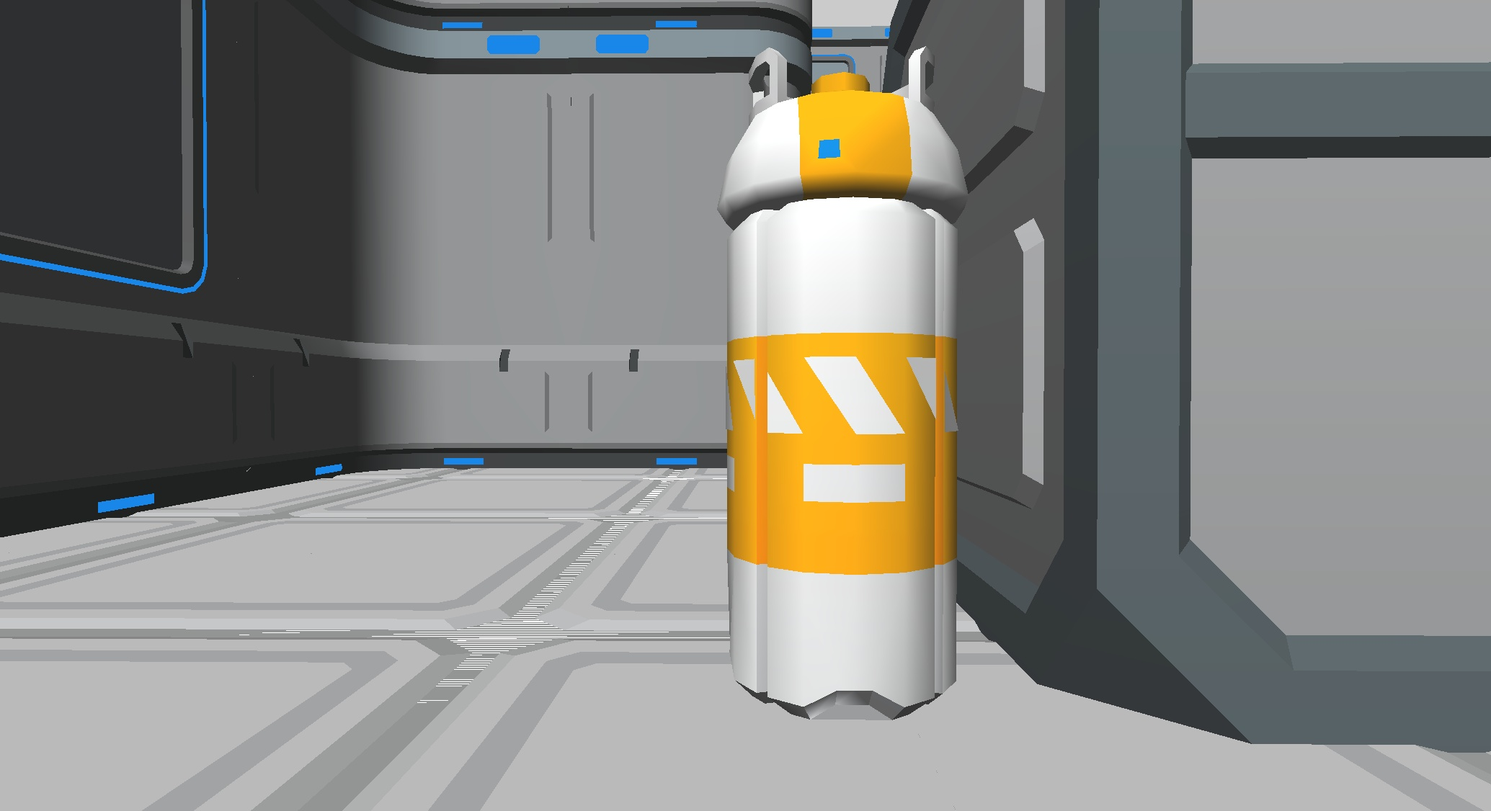yellow_barrel: (264, 387, 846, 674)
